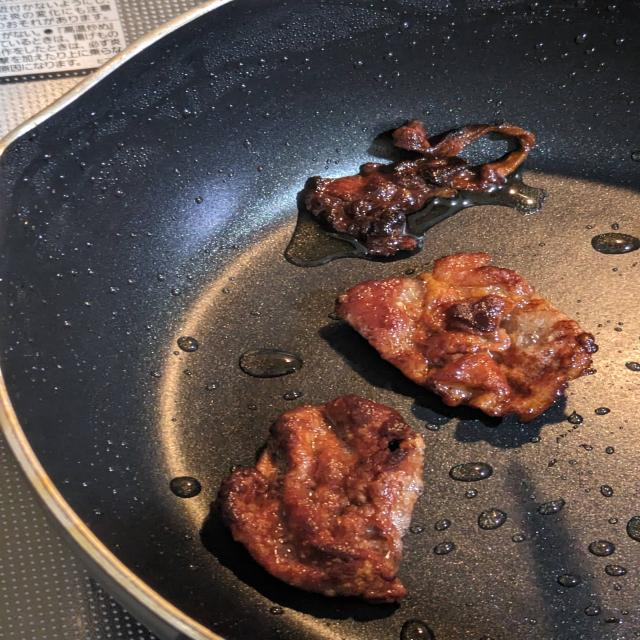overcooked pork: (326, 244, 611, 427), (220, 392, 425, 601), (293, 118, 539, 269)
